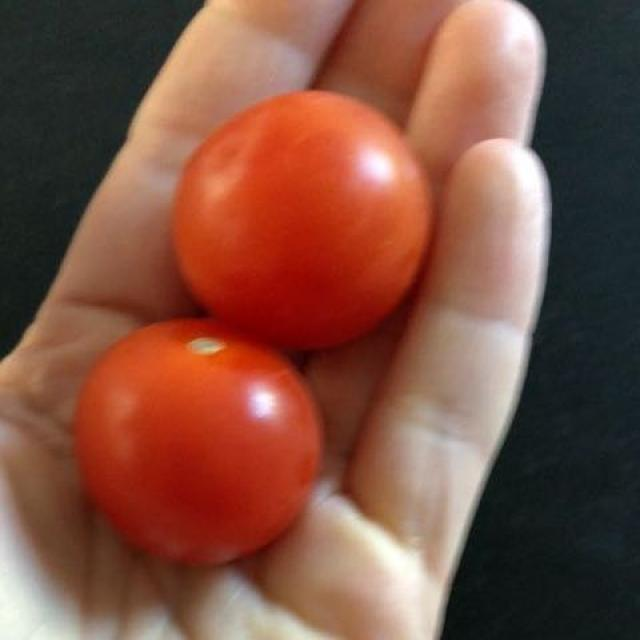tomato: (76, 97, 441, 581)
